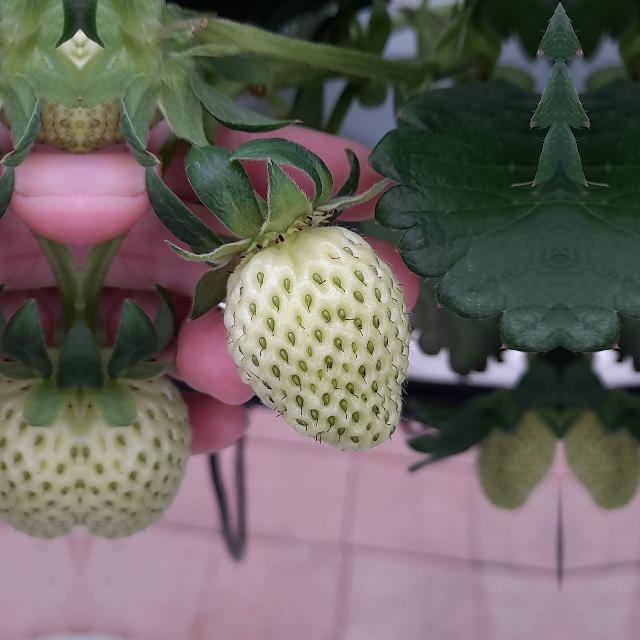Health_25: (224, 226, 410, 449)
